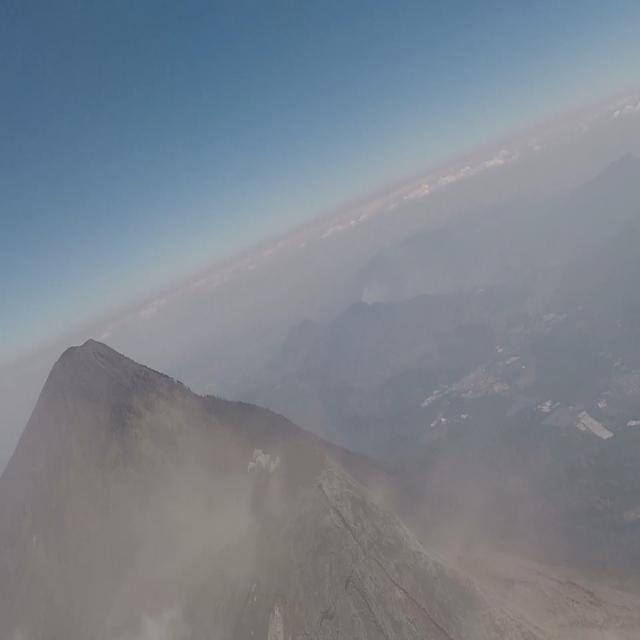Plume: (240, 438, 290, 501)
Summit: (101, 429, 639, 640)
